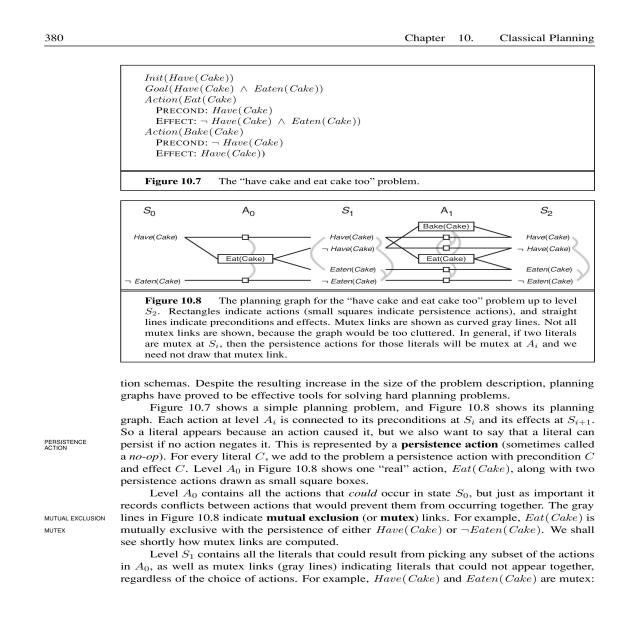diagram: (111, 197, 608, 365)
